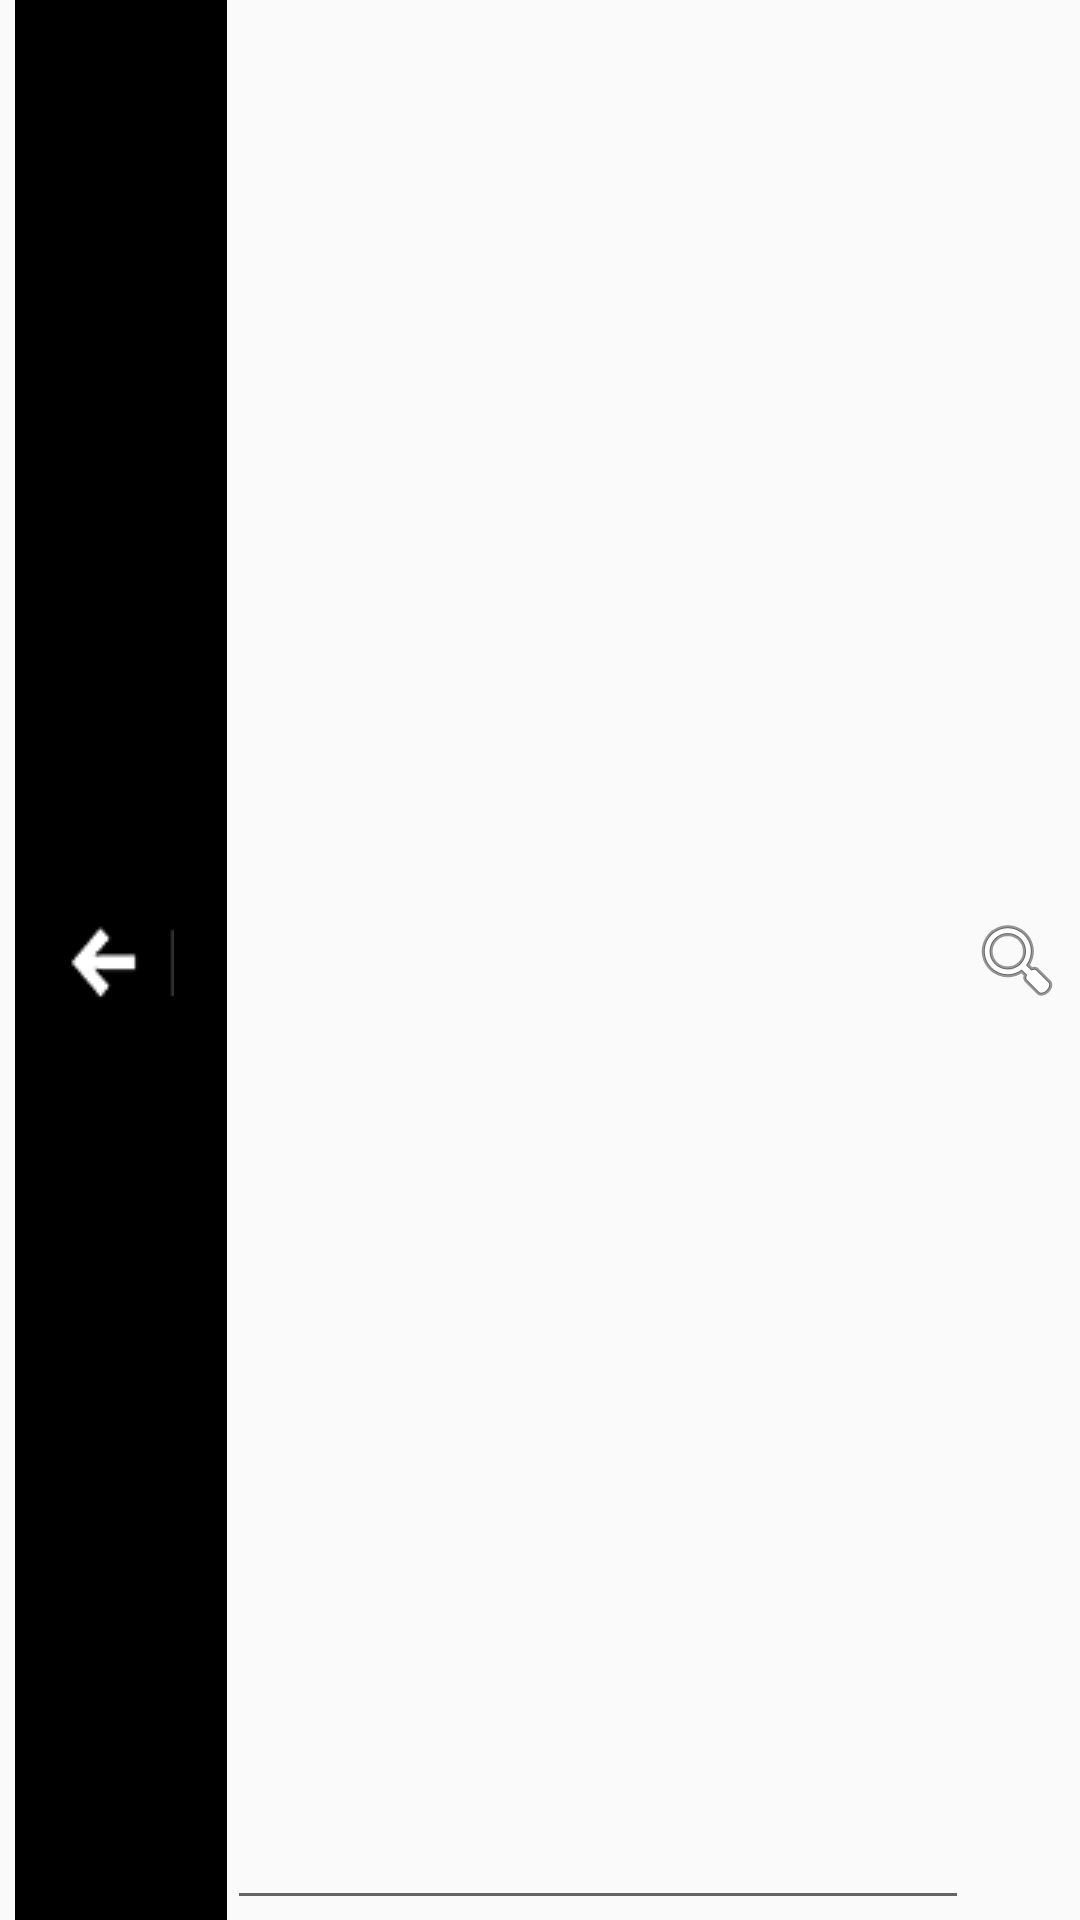

Point at icon controls on the screen. Image size 1080px x 1920px, points as (x,y).
search: (1017,960)
